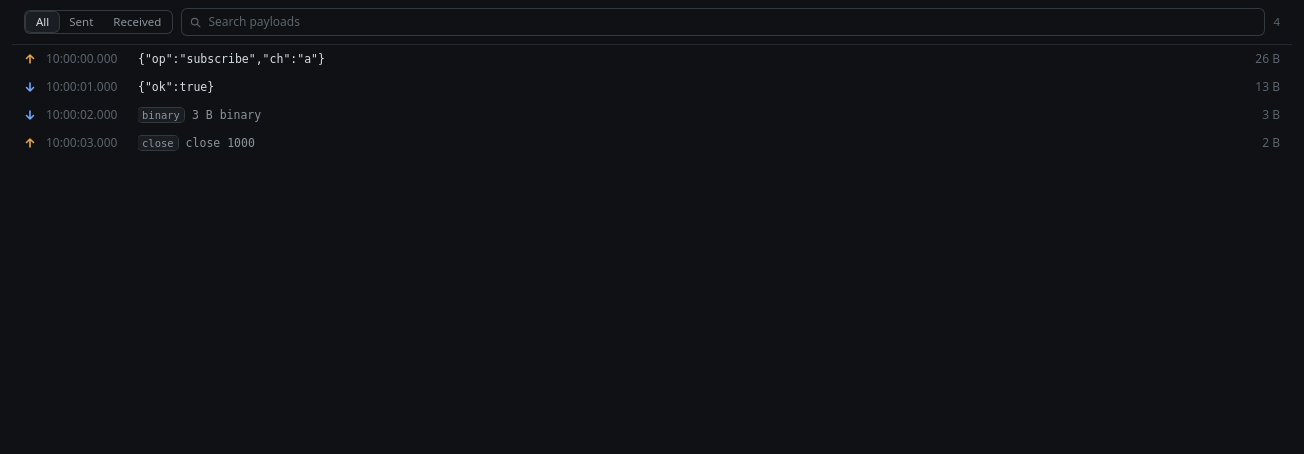
Test: MessagesView › shows a formatted payload when a message is selected
Click the text "{\"op\":\"subscribe\",\"ch\":\"a\"}" at coordinates (231, 59), box [138,52,325,66]
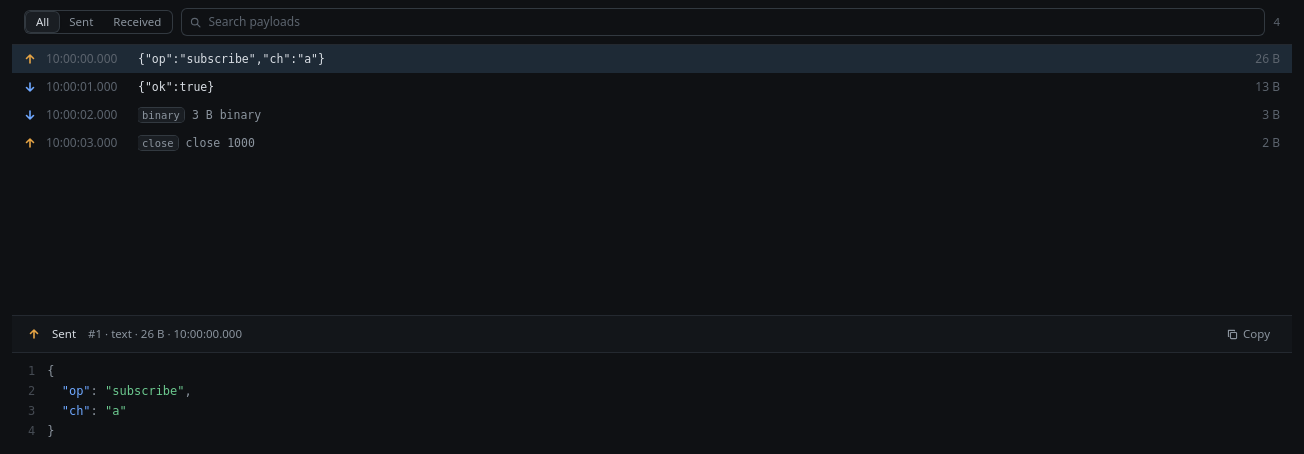
Expected: the text "#1 · text · 26 B · 10:00:00.000" is shown, [88,326,242,342]
Expected: the text "\"subscribe\"" is shown, [105,384,185,398]
